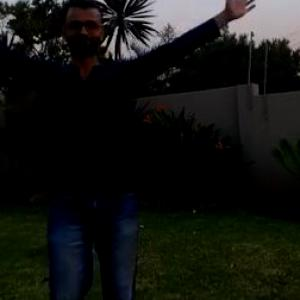takeoff: (1, 0, 238, 299)
